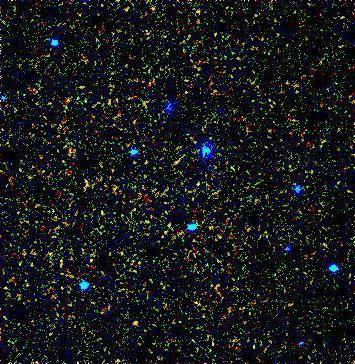star: (208, 103, 238, 133)
